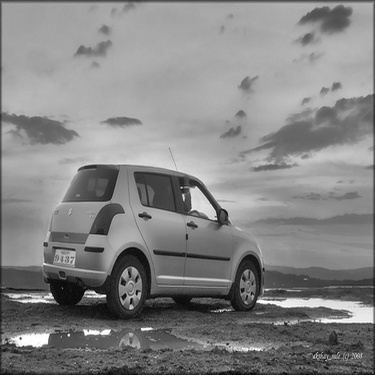car: (15, 150, 288, 316)
